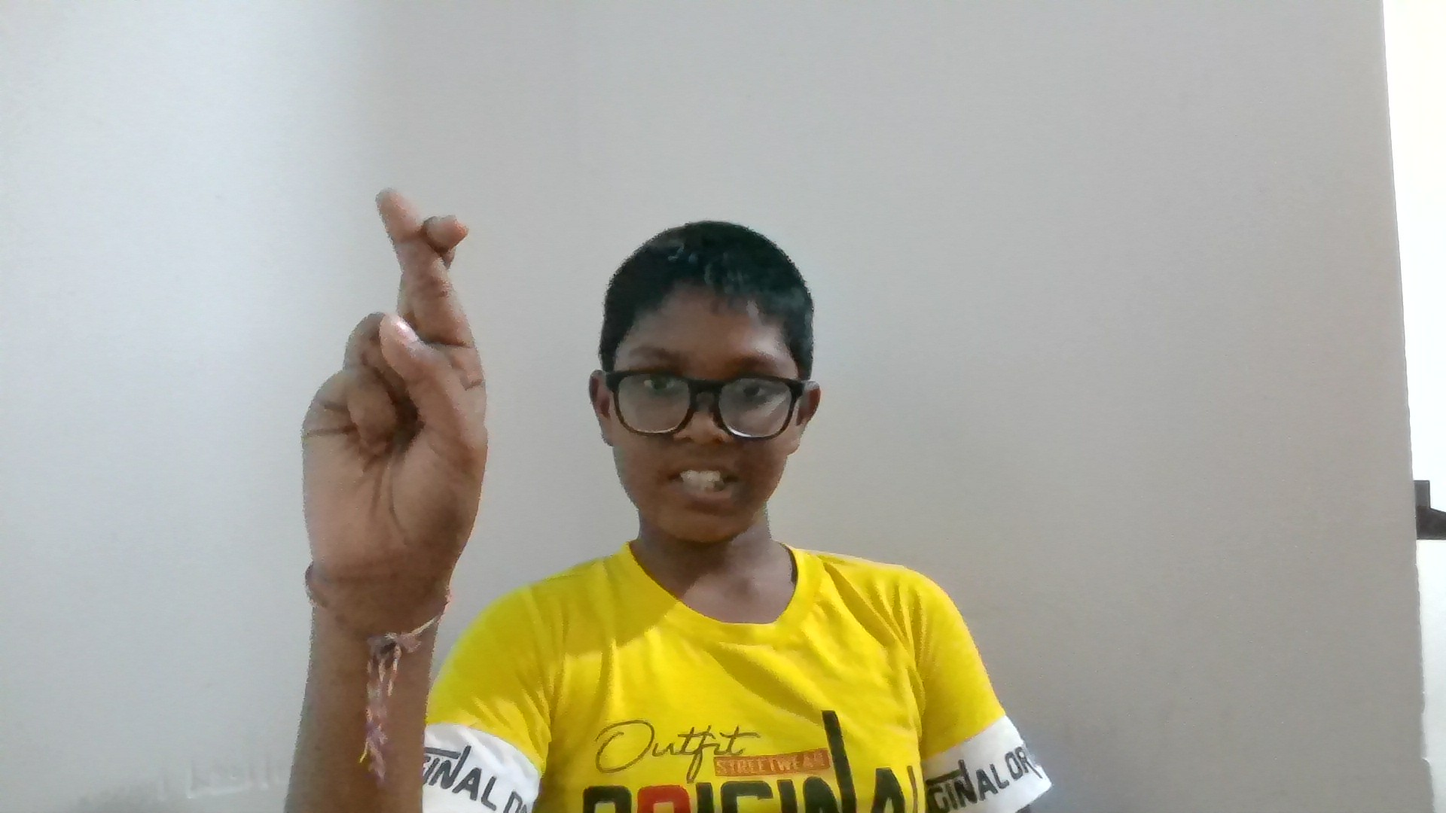Good_Luck: (291, 137, 572, 669)
